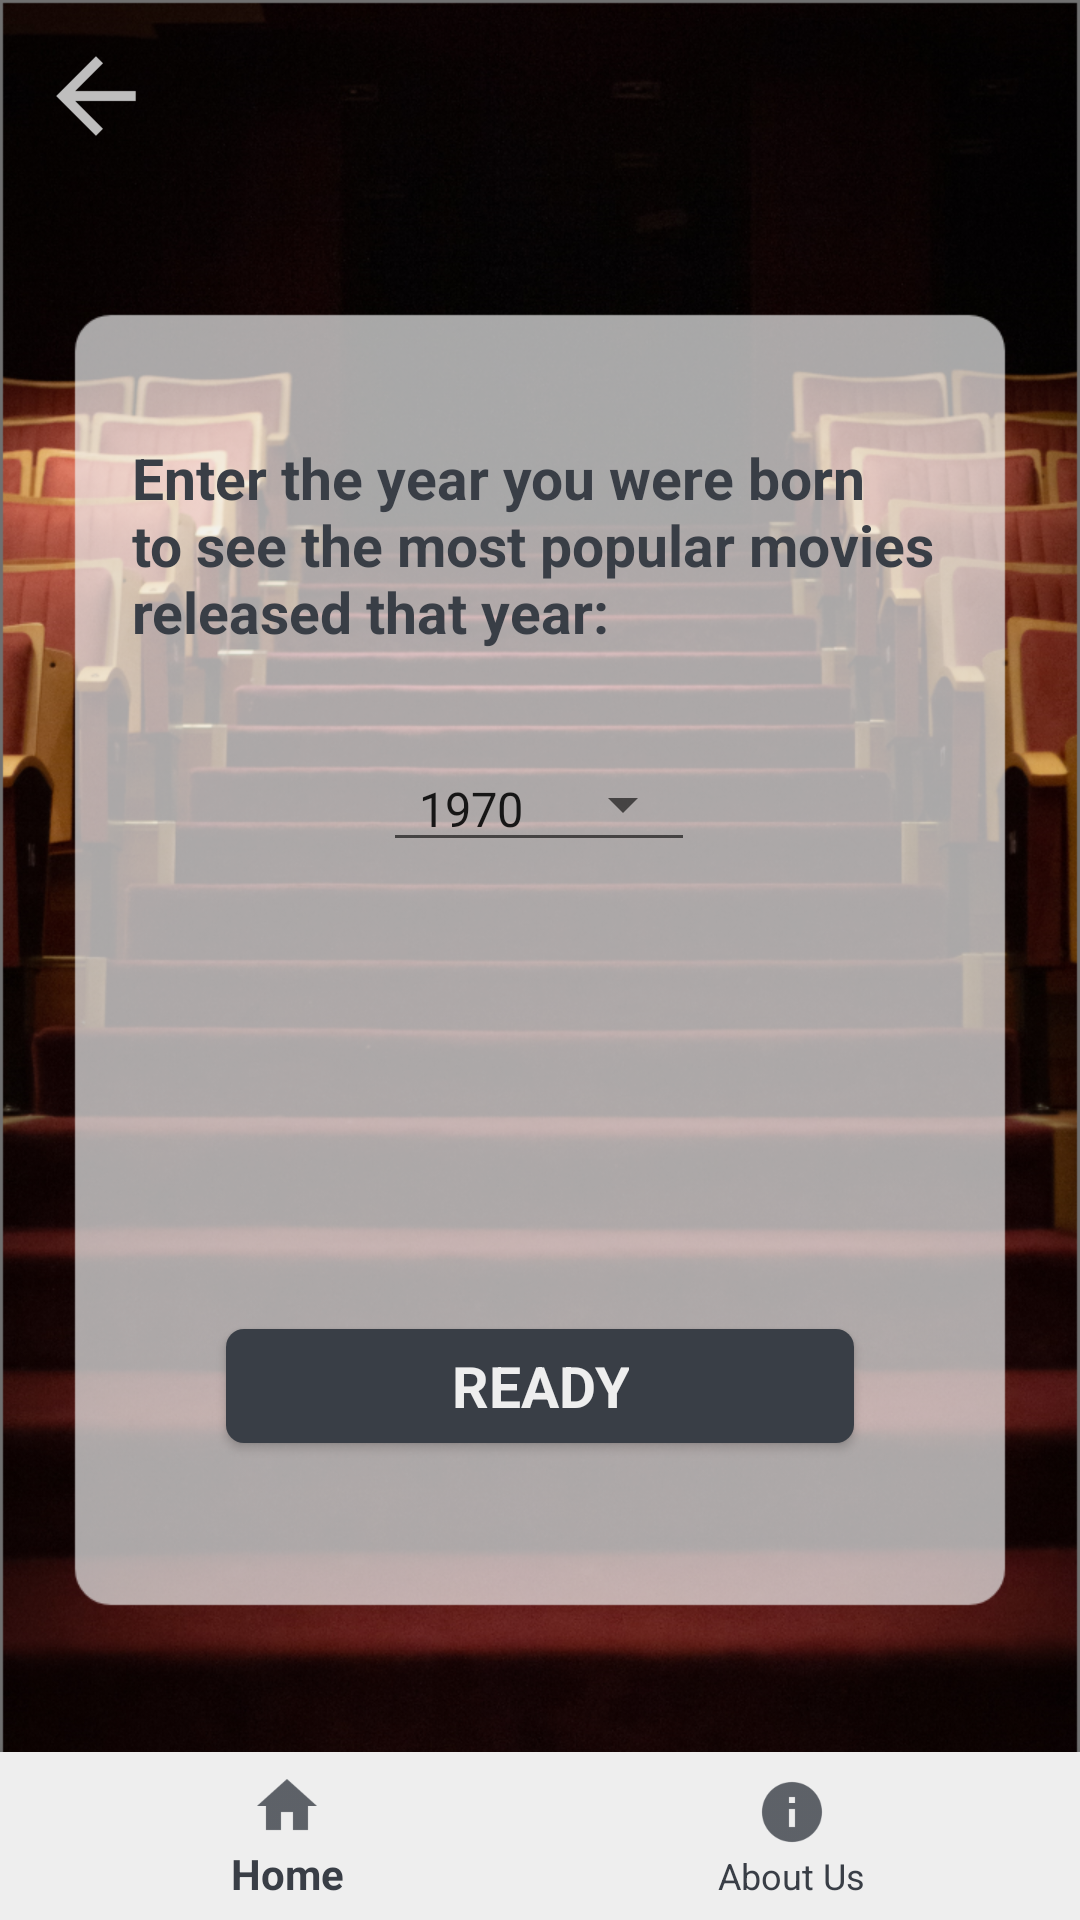

Point at icon controls on the screen. Image size 1080*1920, points as (x=x, y=y).
back: (x=96, y=96)
